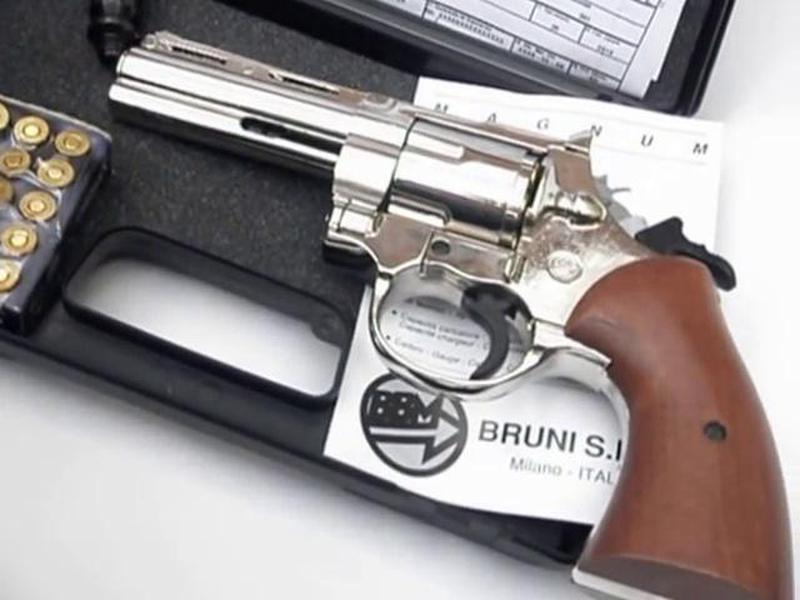Revolver: (79, 18, 774, 506)
